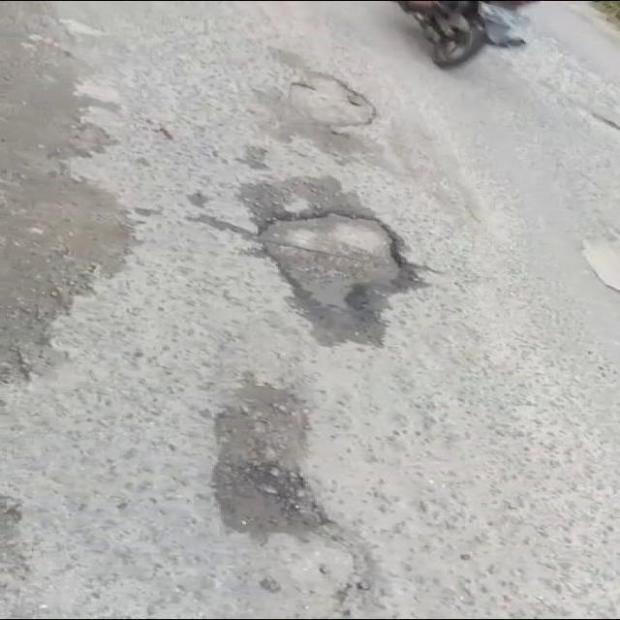lubang: (0, 2, 131, 382), (261, 212, 415, 309), (213, 403, 327, 534), (289, 72, 376, 133)
